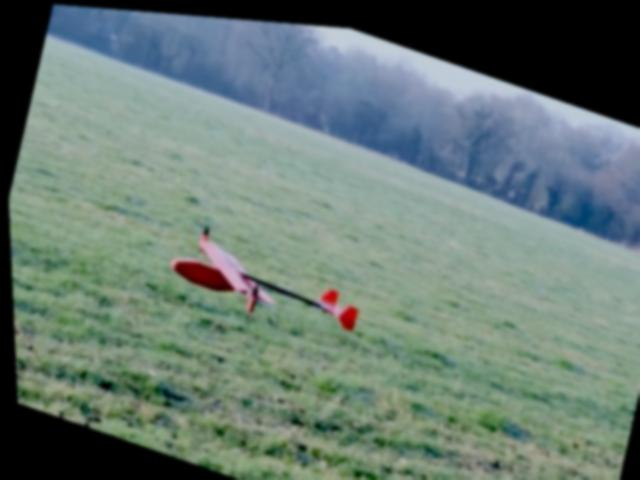uav: (161, 219, 373, 341)
